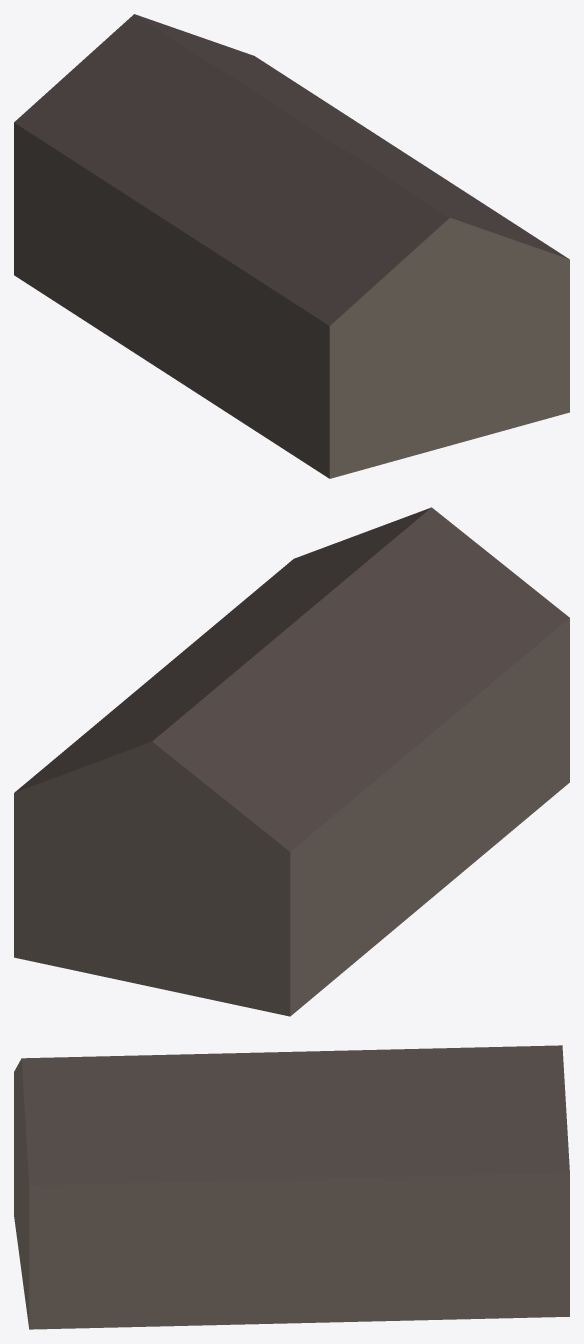
3 renders of one model, top to bottom at view 1: azimuth 30°, elevation 25°; view 2: azimuth 150°, elevation 25°; view 3: azimuth 270°, elevation 25°, orthographic. The views are drawn at different scales.
Parts seen in each view (by area): view 1: HP-w859467725; view 2: HP-w859467725; view 3: HP-w859467725.
Boxes of the visible parts, x1,y1,x2,y2 form: HP-w859467725: [14, 14, 569, 478]; HP-w859467725: [14, 507, 569, 1016]; HP-w859467725: [14, 1045, 569, 1329].
Bounding box in the file's own units: 11.36 × 8.95 × 21.04.
